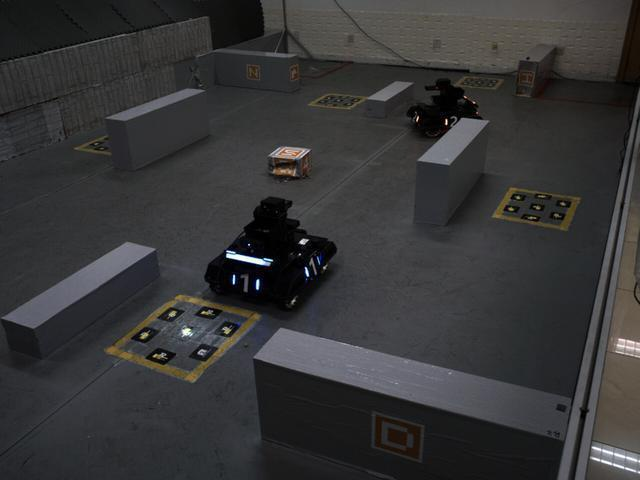armor: (225, 268, 264, 300), (297, 248, 326, 288), (440, 113, 464, 133), (406, 108, 425, 127)
